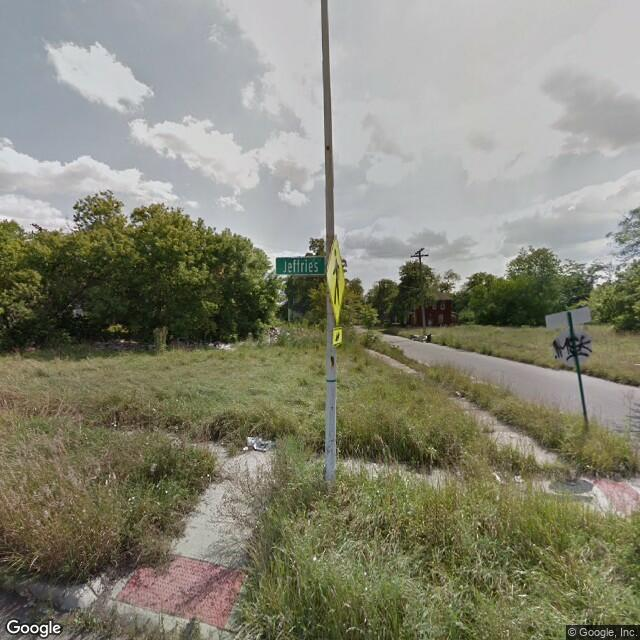litter: (242, 434, 277, 449), (492, 468, 507, 485), (511, 471, 524, 484)
